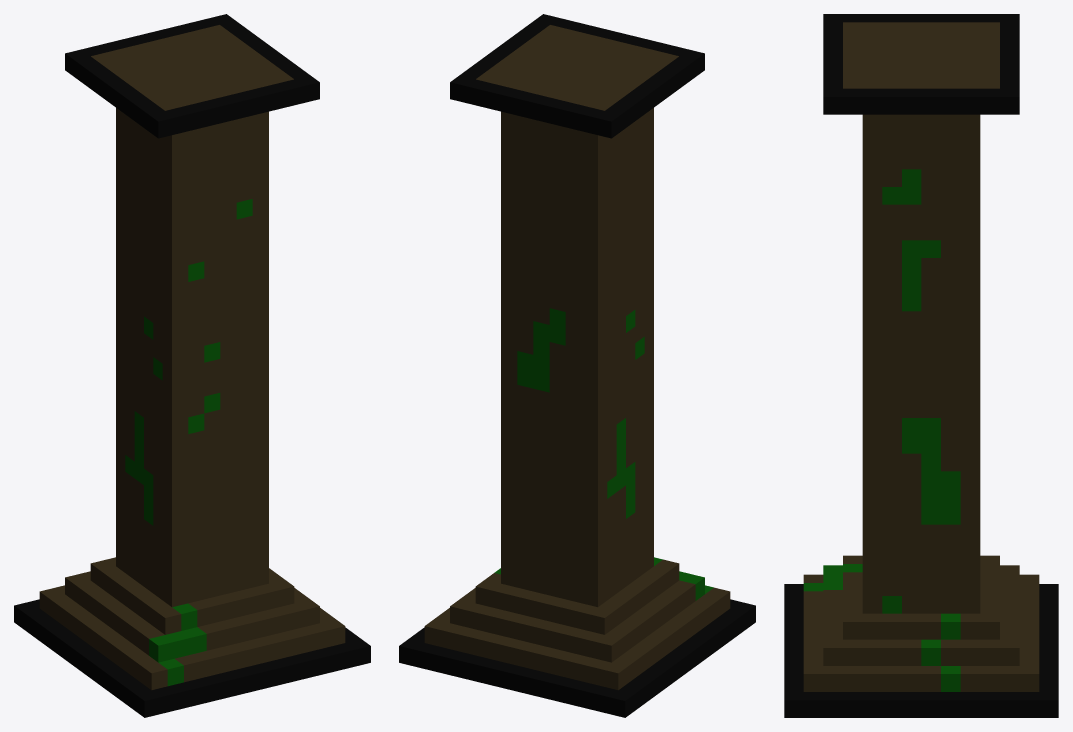
Rendered from pillar.fbx.
The picture shows the model from 3 angles, left to right: view 1: azimuth 30°, elevation 25°; view 2: azimuth 150°, elevation 25°; view 3: azimuth 270°, elevation 25°; orthographic projection. The views are drawn at different scales.
Parts seen in each view (by area): view 1: Untitled; view 2: Untitled; view 3: Untitled.
Part boxes in pixels (x1=…): Untitled: x1=14, y1=14, x2=370, y2=717; Untitled: x1=399, y1=14, x2=755, y2=717; Untitled: x1=784, y1=14, x2=1058, y2=717.
Bounding box in the file's own units: 1.4 × 3.4 × 1.4.
